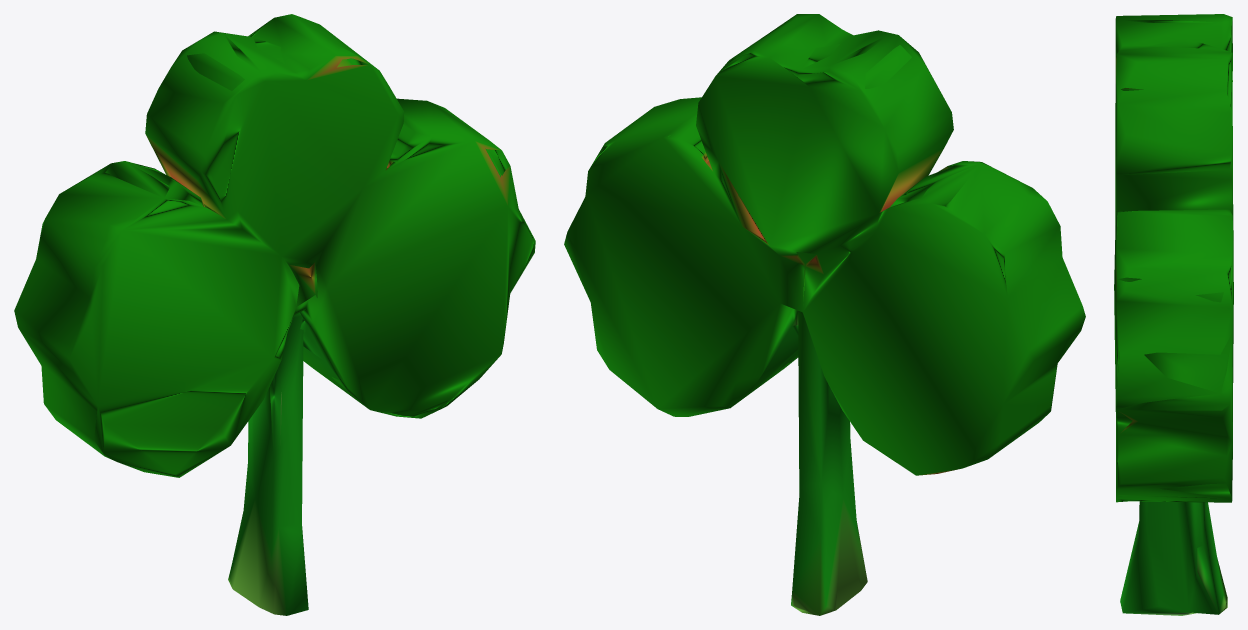
File: gen3d-four-leaf-clover-lod1.glb
3 renders of one model, left to right at view 1: azimuth 30°, elevation 25°; view 2: azimuth 150°, elevation 25°; view 3: azimuth 270°, elevation 25°, orthographic. The views are drawn at different scales.
Parts seen in each view (by area): view 1: part_0; view 2: part_0; view 3: part_0.
Boxes of the visible parts, box(x1,y1,x2,y2) form: part_0: box(14, 14, 535, 615); part_0: box(564, 14, 1085, 615); part_0: box(1114, 14, 1233, 615).
Bounding box in the file's own units: 0.8852 × 0.9982 × 0.1893.
